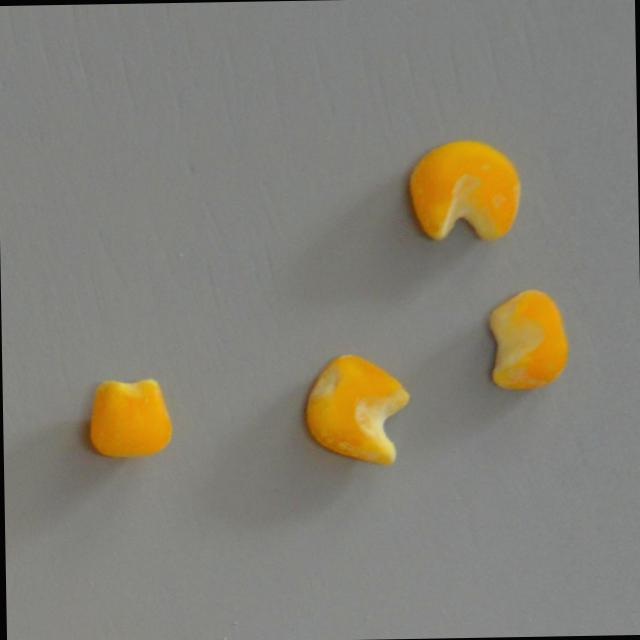no_canjicado: (88, 378, 172, 458)
pelicula: (302, 352, 412, 468), (406, 140, 522, 242), (486, 290, 568, 392)
